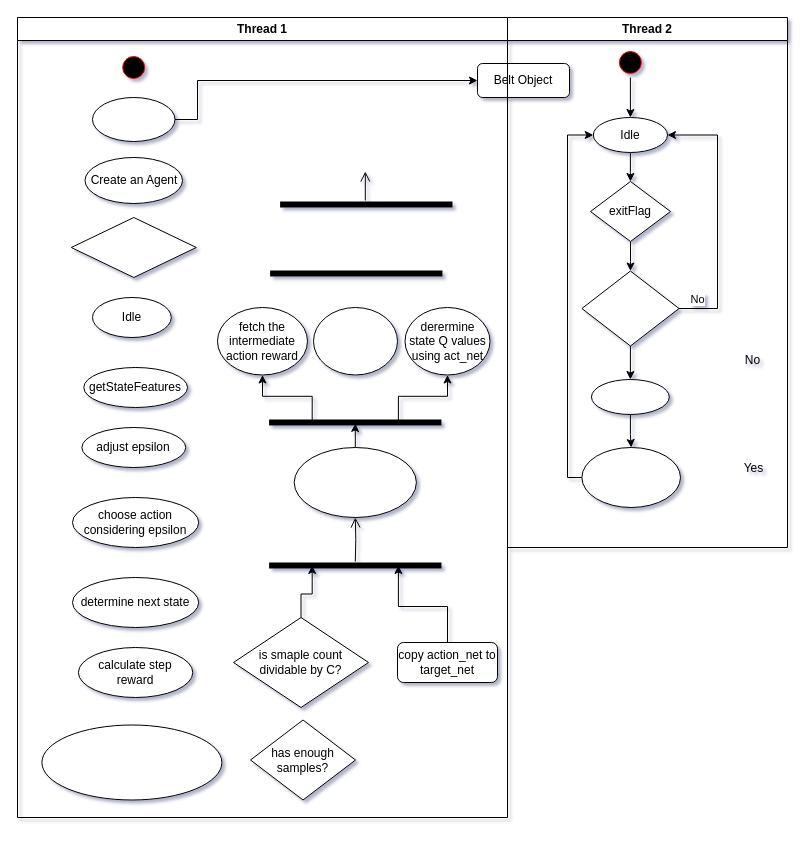
Some shapes in this 811 by 841 pixel diagram are drawn without their labels. Here are the shapes that lost their labels. From the top down, the centre of each, then its label:
At (133,119): "Create a Belt".
At (133,247): "eoisodeFinished()".
At (630,308): "belt.isEmpty()".
At (355,340): "derermine next_state Q values using target_net".
At (629,396): "create a Product".
At (354,482): "select a random sample batch from buffer".
At (630,477): "add the Product to Belt".
At (131,762): "store the (state,action,reward,next_state) in the buffer memory".
